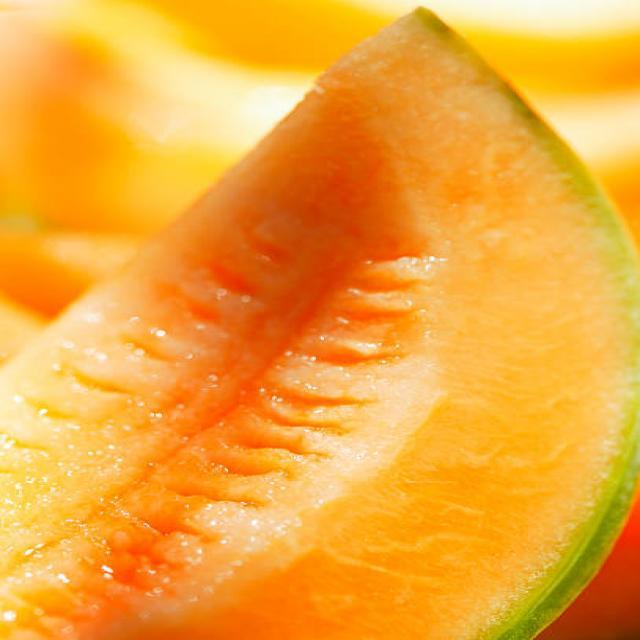Hami Melon: (0, 3, 640, 640)
